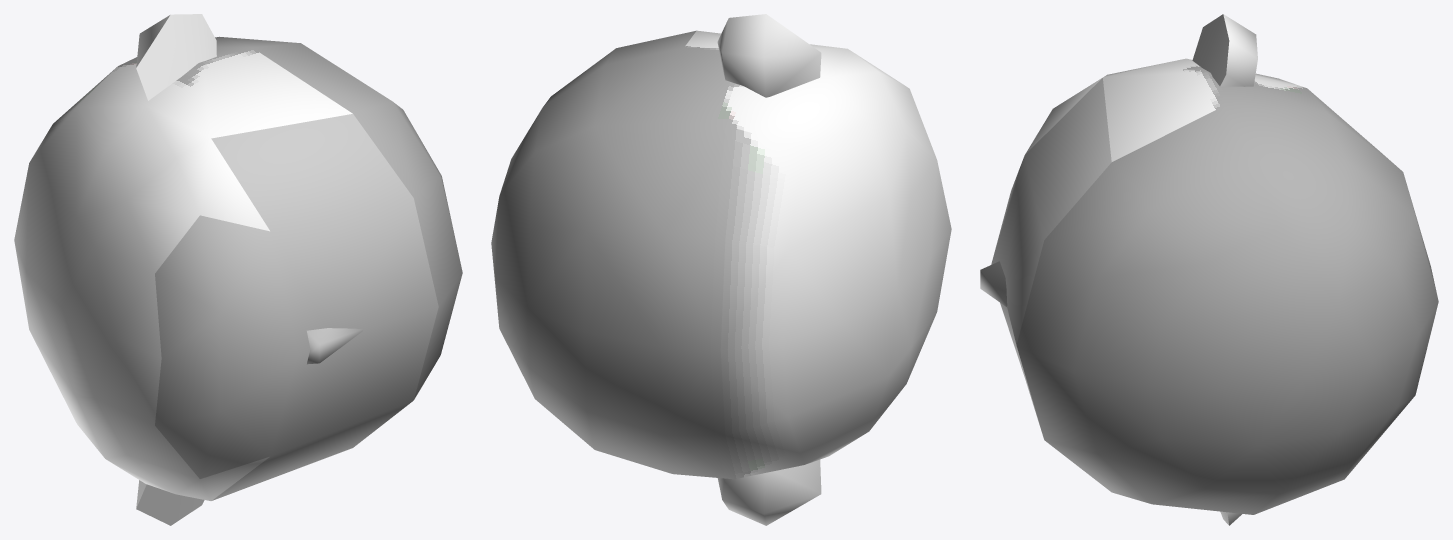
The model's file is boy00a.dae.
The picture shows the model from 3 angles, left to right: view 1: azimuth 30°, elevation 25°; view 2: azimuth 150°, elevation 25°; view 3: azimuth 270°, elevation 25°; orthographic projection.
Visible parts, largest first — view 1: vsn_mesh_0_, vsn_mesh_1_, vsn_mesh_2_; view 2: vsn_mesh_0_; view 3: vsn_mesh_0_, vsn_mesh_1_.
Boxes of the visible parts, <box> form: vsn_mesh_0_: <box>14,14,462,525</box>; vsn_mesh_1_: <box>211,114,438,500</box>; vsn_mesh_2_: <box>155,215,297,478</box>; vsn_mesh_0_: <box>491,14,951,525</box>; vsn_mesh_0_: <box>1016,14,1438,525</box>; vsn_mesh_1_: <box>980,78,1111,430</box>.
Size of the model in its own units: 20.22 by 26.71 by 21.96.
